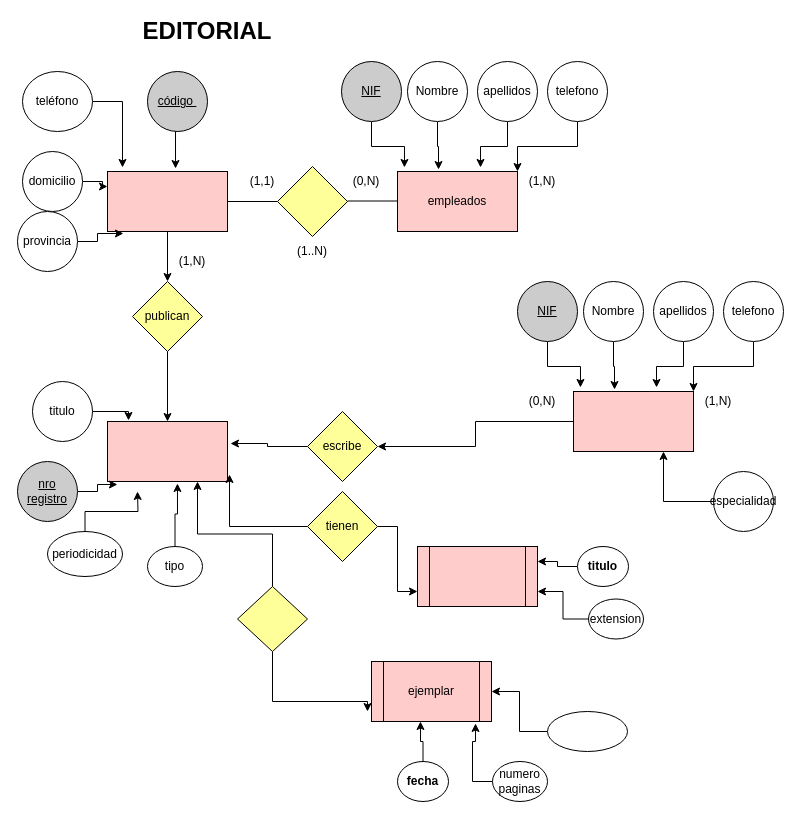
The diagram is 801 pixels wide and 819 high, and some of its shapes have lost their labels. The shapes that lost their labels are listed below. From the top down, each one's box as (x1, y1, x2, y2) in pixels, then its label:
(106, 170, 228, 232): sucursal
(276, 166, 348, 236): trabaja
(572, 390, 694, 452): periodistas
(106, 420, 228, 482): revistas
(416, 546, 538, 606): seccion
(236, 586, 308, 652): publica
(546, 710, 628, 752): numero ejemplares
